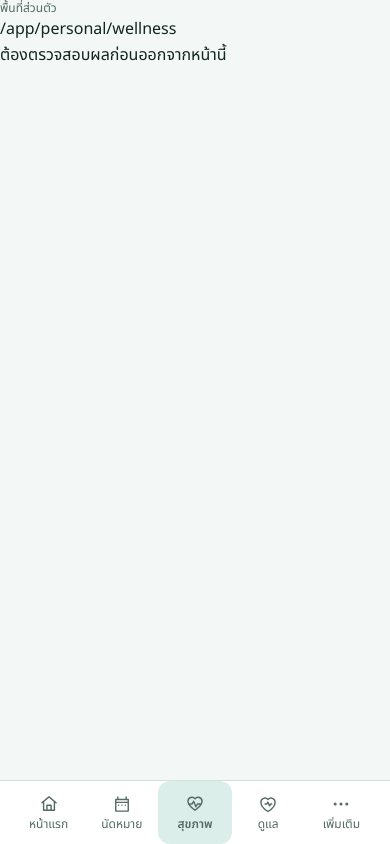
it: unified mobile bottom navigation › asks before changing tabs when an unresolved outcome is active
Click the link with aria-label "นัดหมาย": click(122, 813) left=101, top=794, right=142, bottom=832
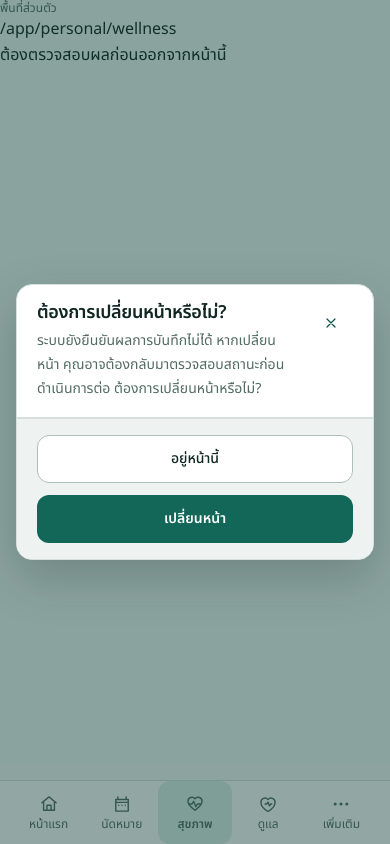
Expected: the dialog shows "ระบบยังยืนยันผลการบันทึกไม่ได้", left=37, top=330, right=284, bottom=399
